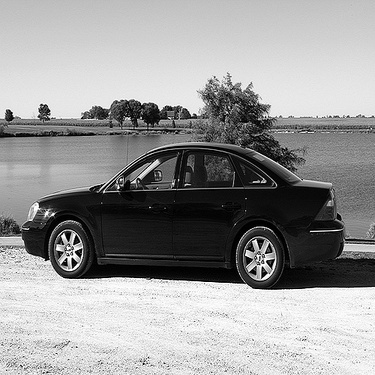car: (19, 135, 347, 291)
